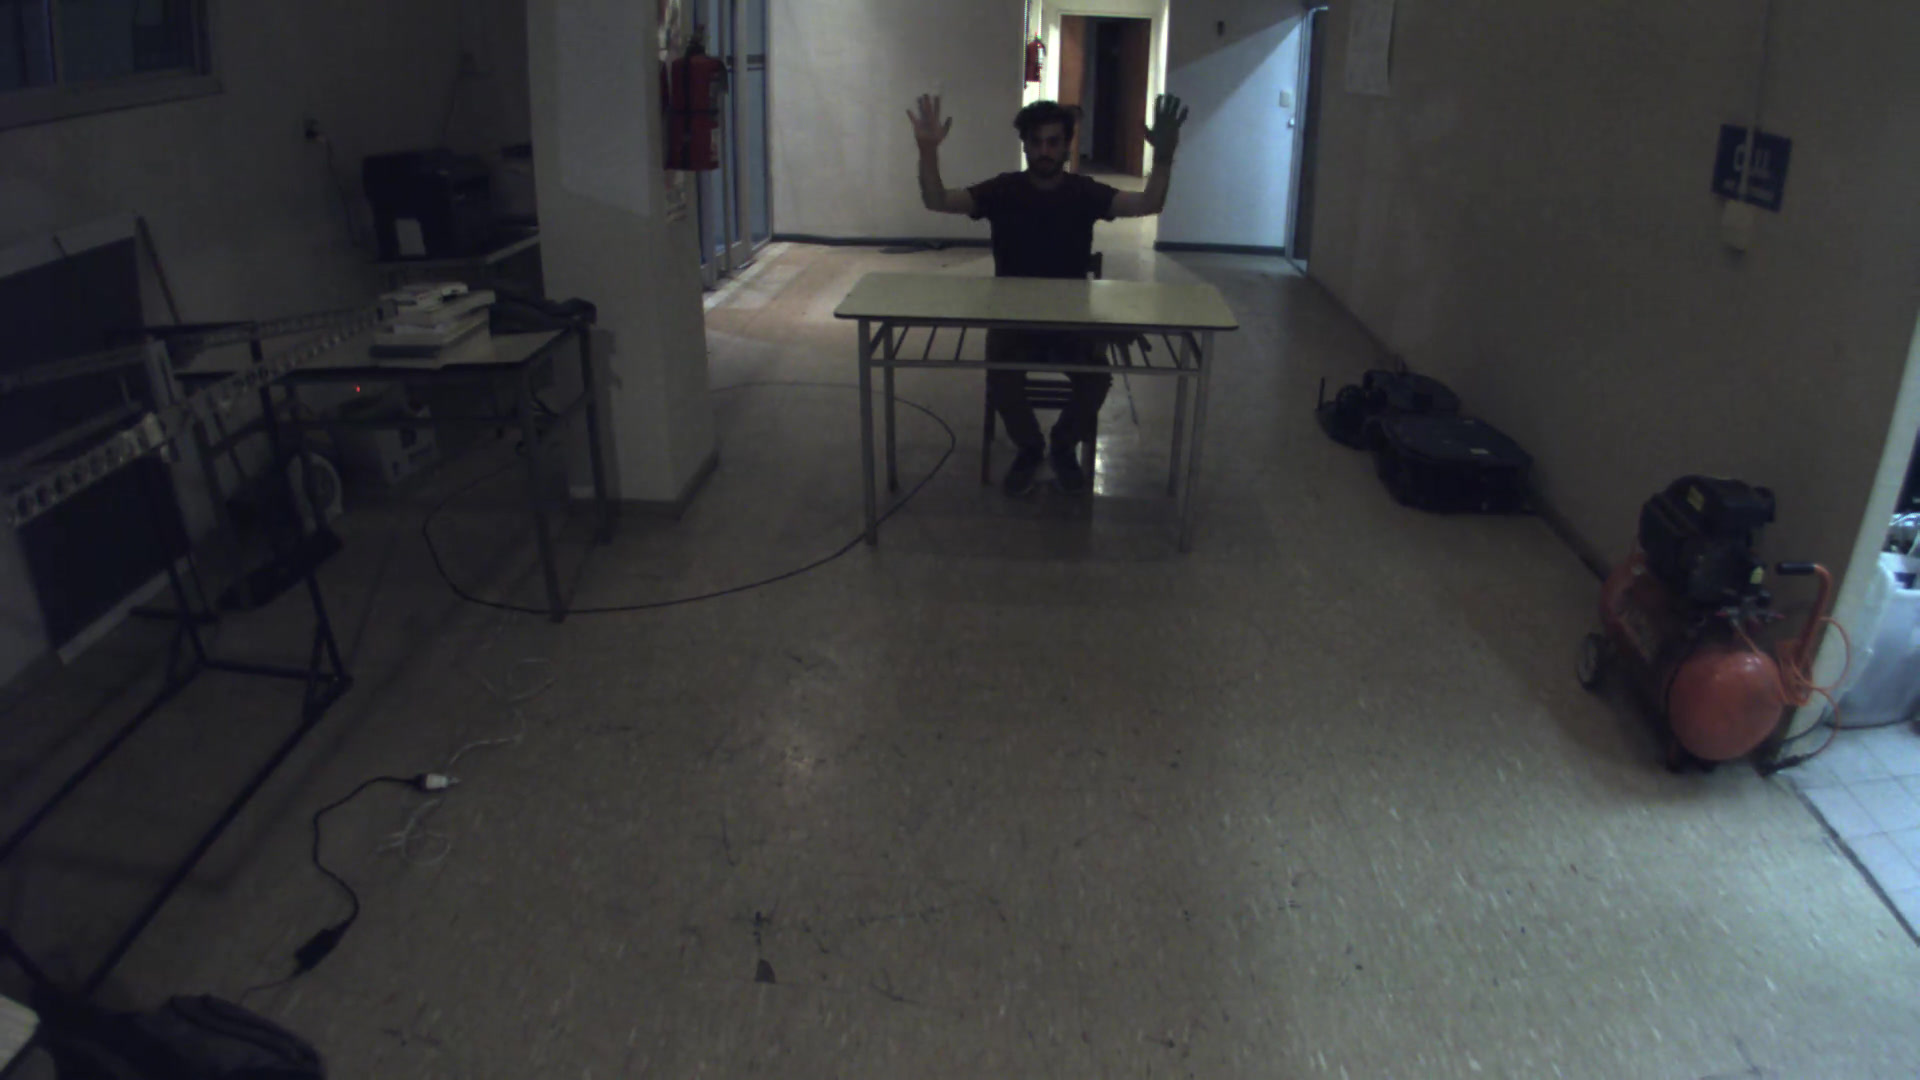hand: (903, 90, 963, 164), (1131, 90, 1196, 156)
